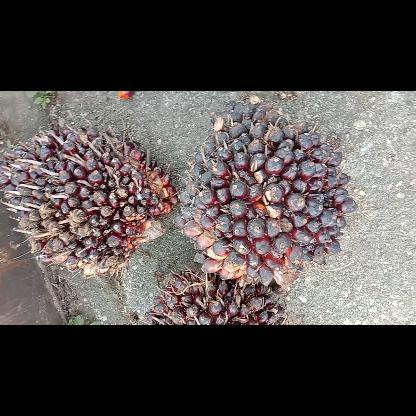TBS mentah: (176, 96, 356, 286), (0, 127, 176, 276), (143, 266, 285, 324)
